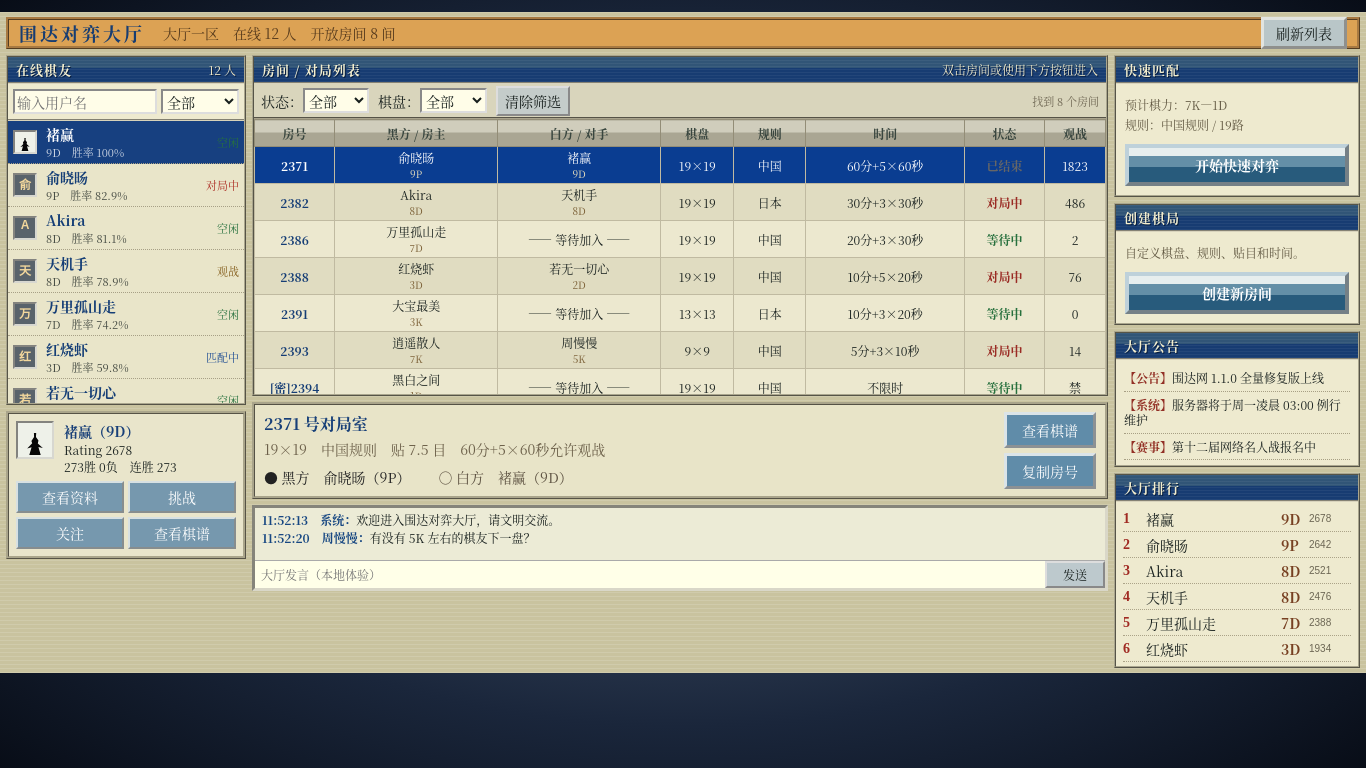
it: hall room dialog › disables byo-yomi for an unlimited game
Step 1. Click the button "创建新房间" → (1237, 293), box [1125,272,1349,314]
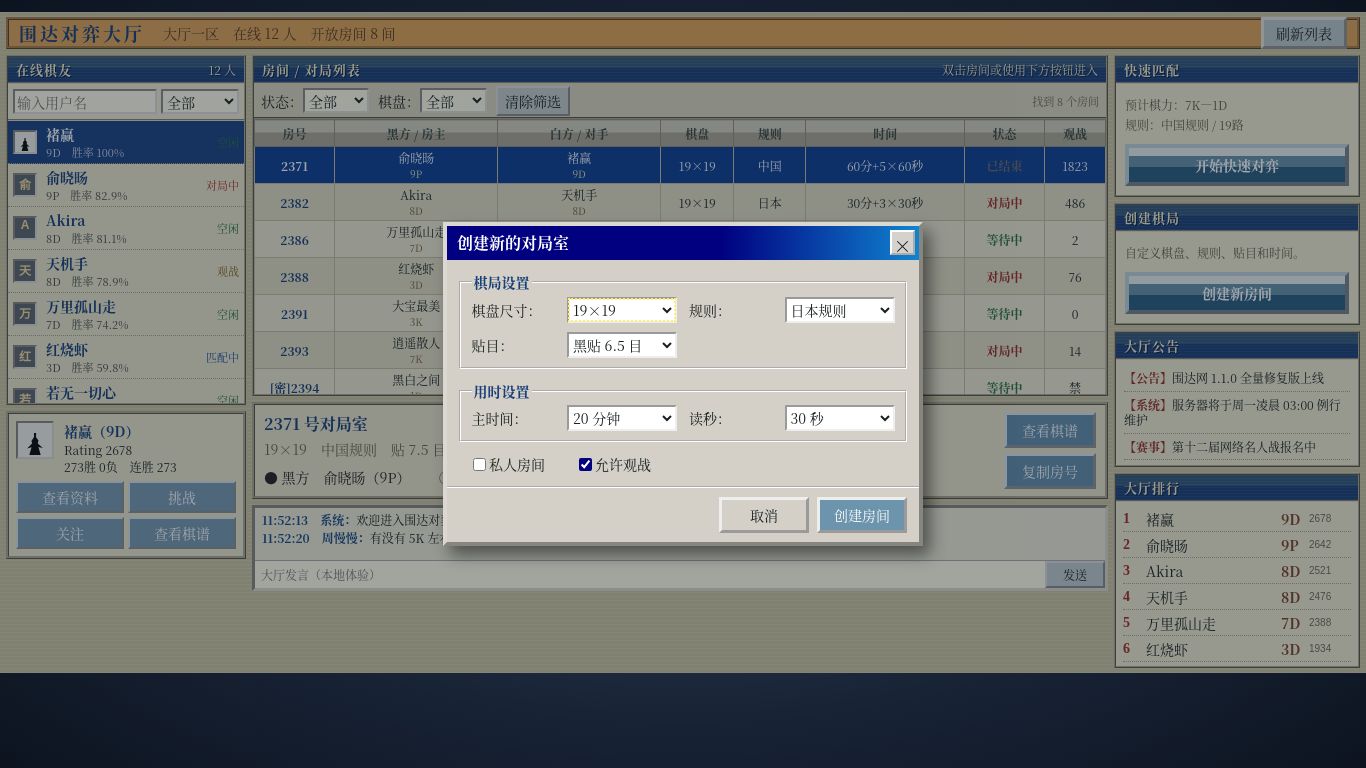
Step 2. Select "不限时" in the dropdown labelled "主时间：" → (622, 418), box [567,405,677,431]
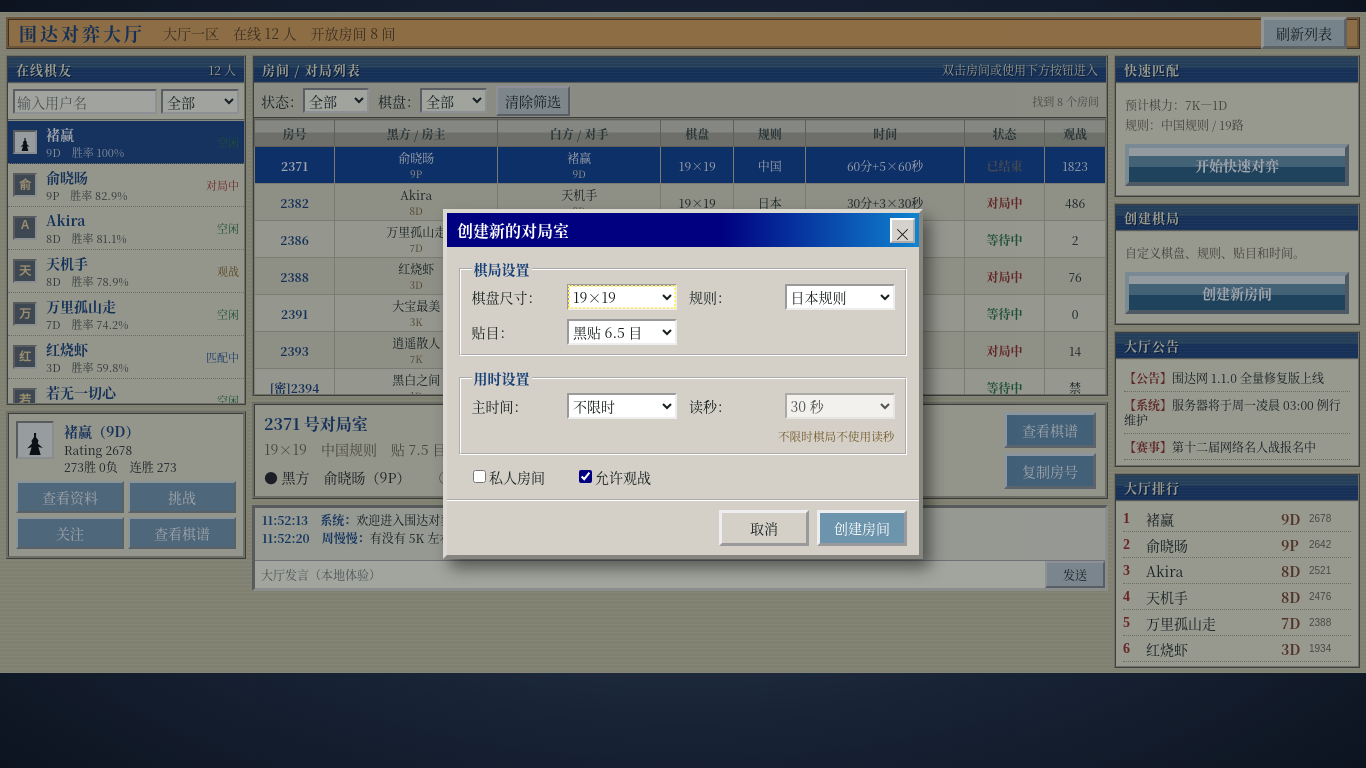
expect the dropdown labelled "读秒：" is disabled: met, box [784,393,894,419]
expect the text "不限时棋局不使用读秒" is shown: met, box [778,428,894,444]
